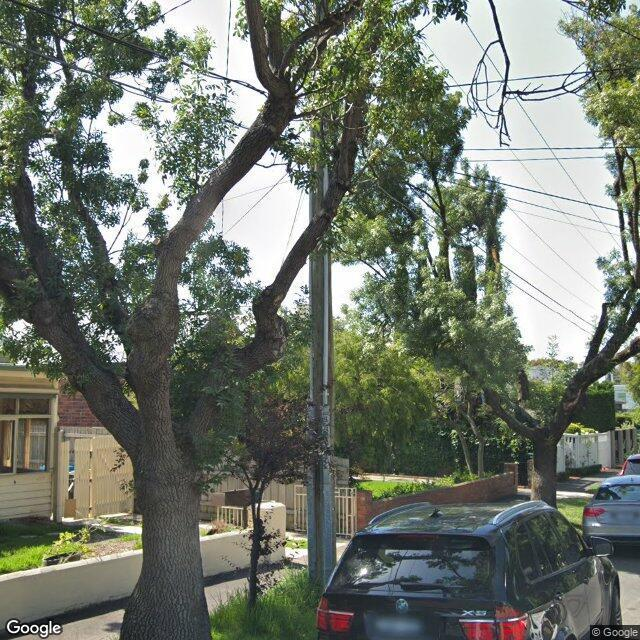timber-pole: (308, 117, 337, 591)
